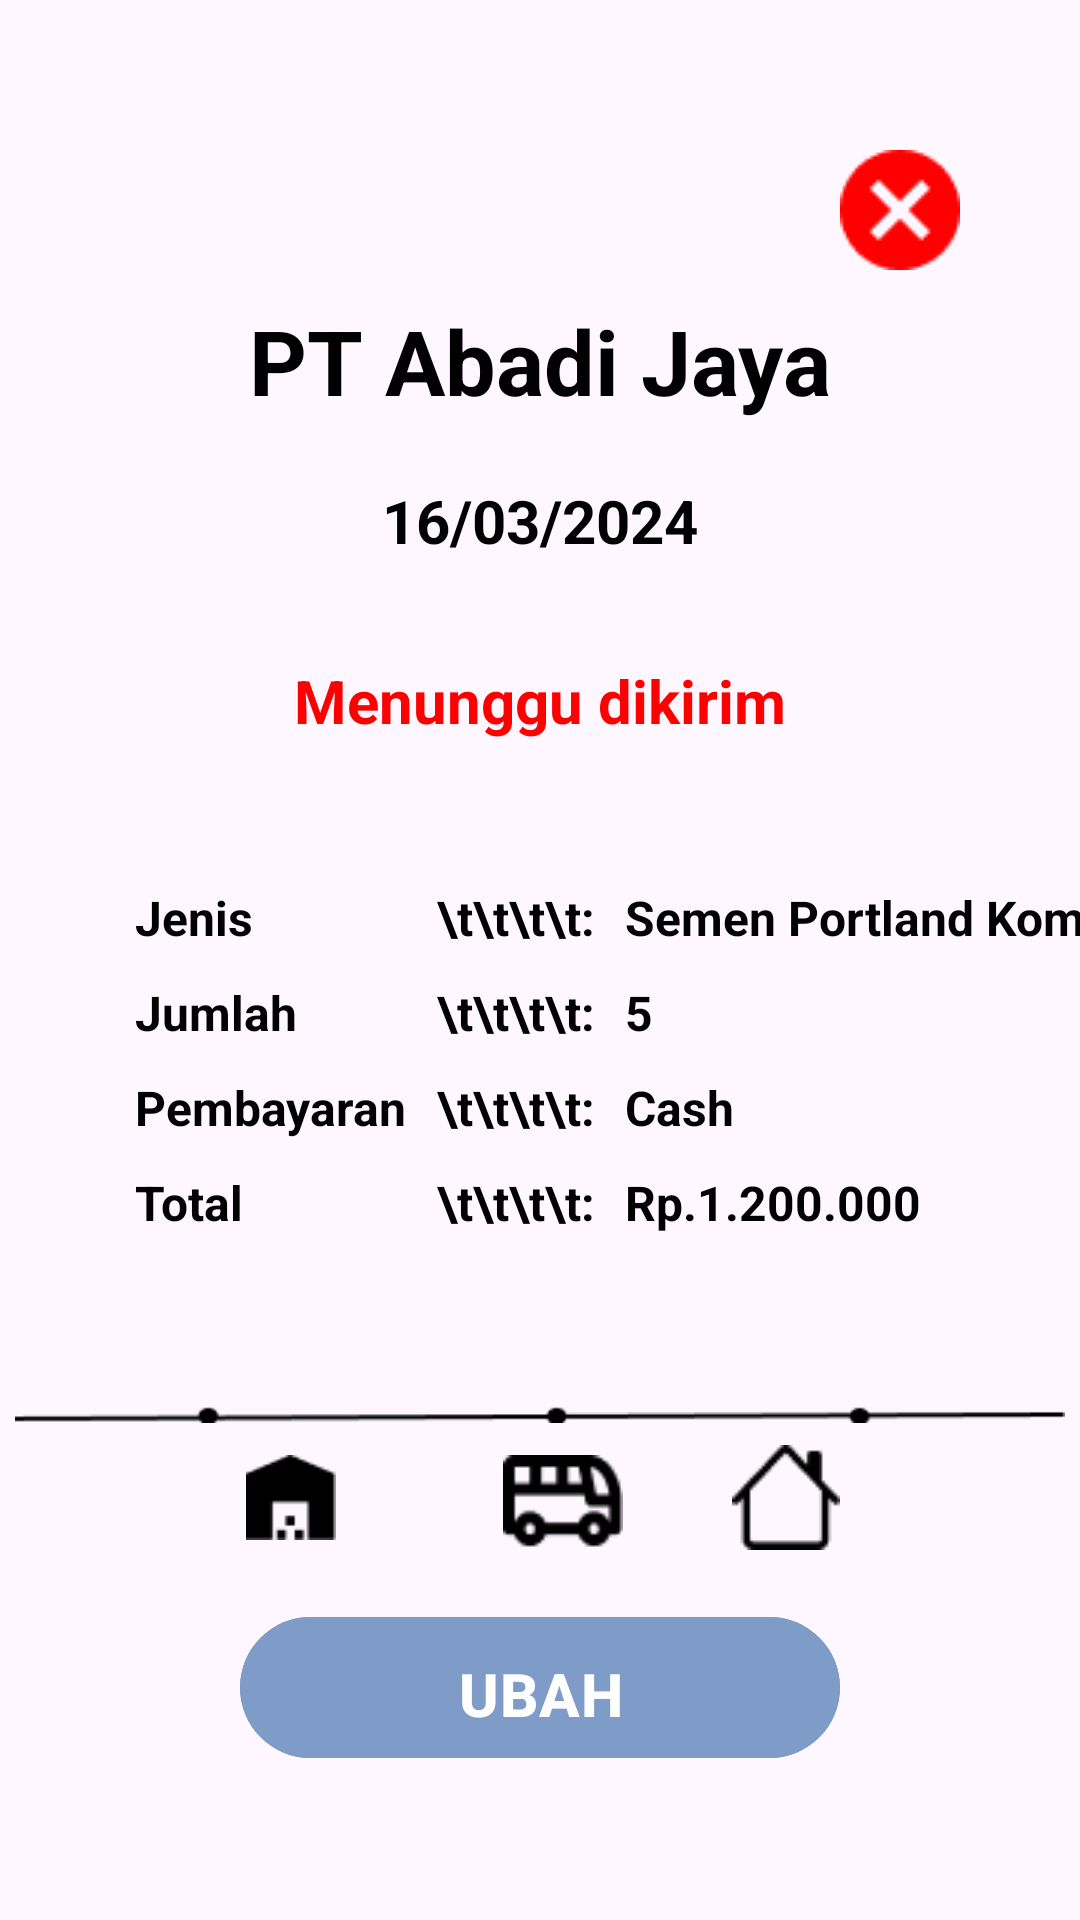

Screen size 1080x1920. Icon name, then its box in pixels as (x1, y1, x2, y2):
cancel: (840, 150, 960, 270)
menunggu pengiriman: (246, 1455, 336, 1540)
pesanan dikirim: (503, 1455, 623, 1547)
pesanan diterima: (732, 1445, 840, 1550)
